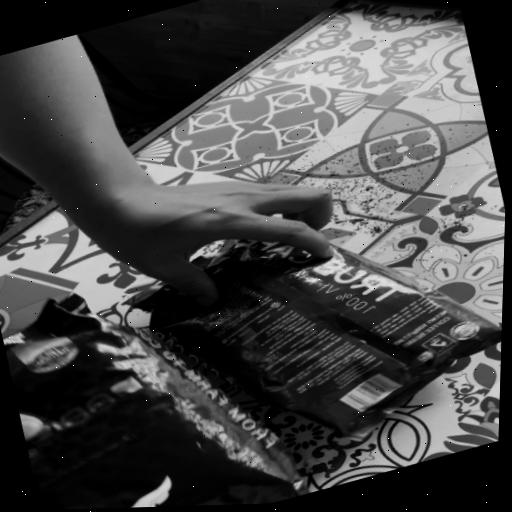cafe_hat: (3, 294, 311, 510)
cafe_xay: (129, 240, 502, 440)
